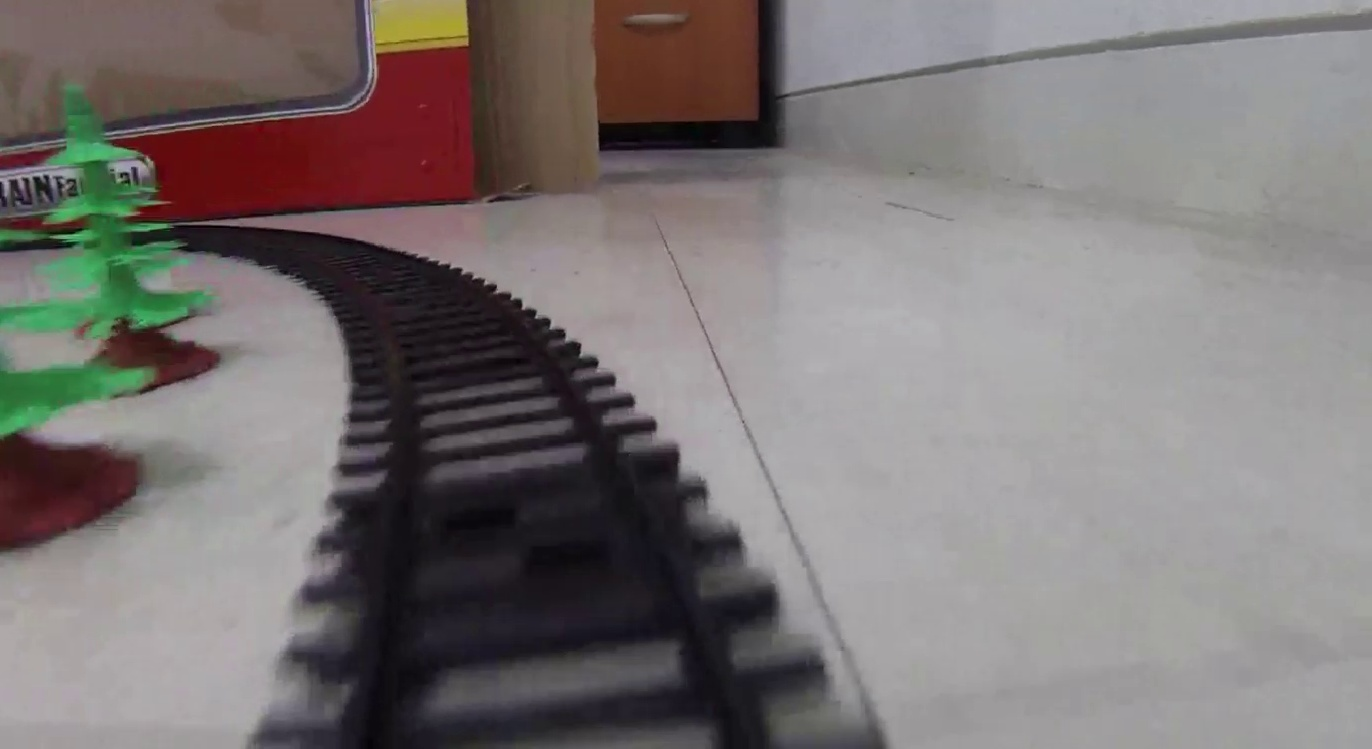tree: (39, 84, 223, 387)
